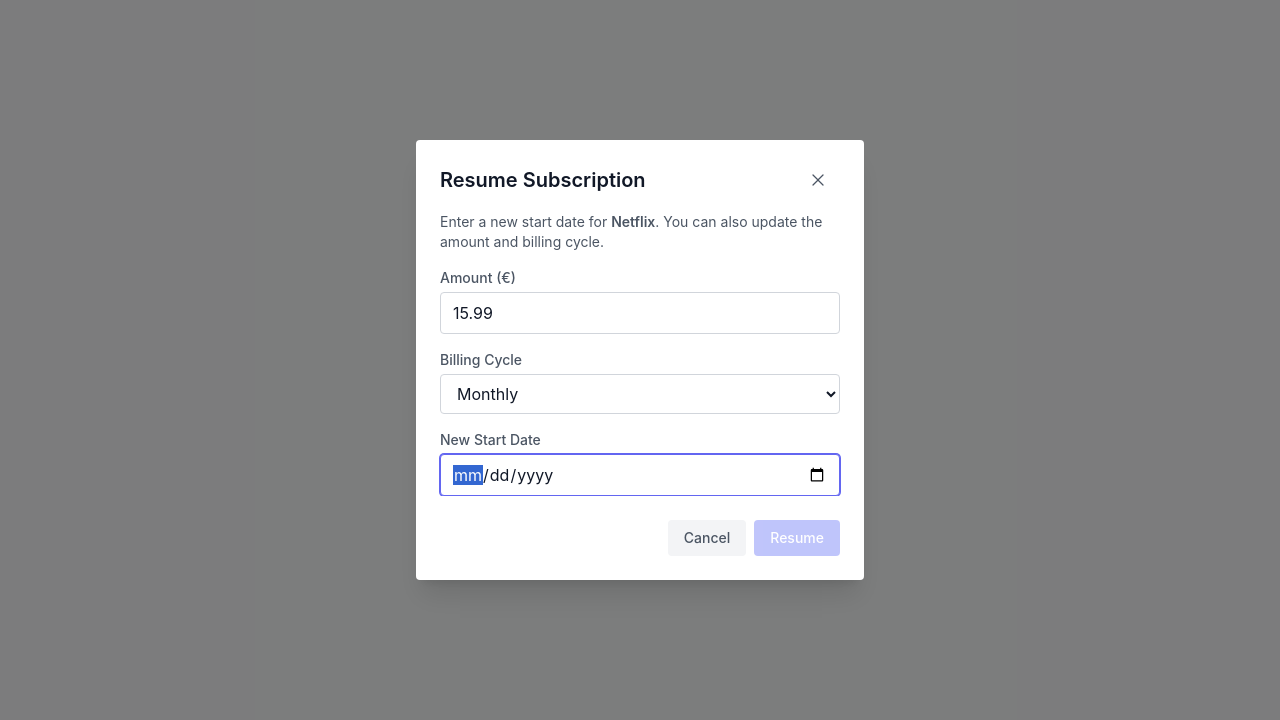
it: ResumeSubscriptionModal › enables Resume button when start date is filled
This screenshot has width=1280, height=720.
Type "2026-05-01" into the date field labelled "New Start Date".
click(640, 475); type("2026-05-01")  # box [440,454,840,496]
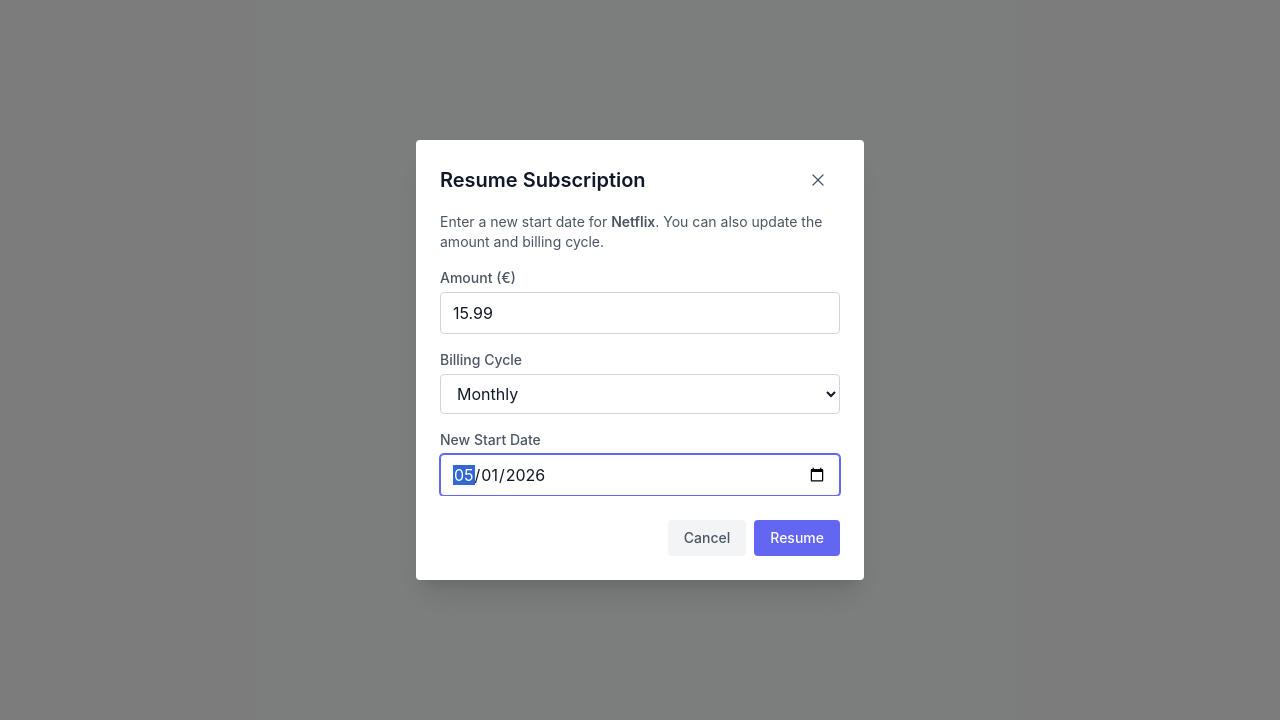
Now the button "Resume" is enabled, box [754,520,840,556]
